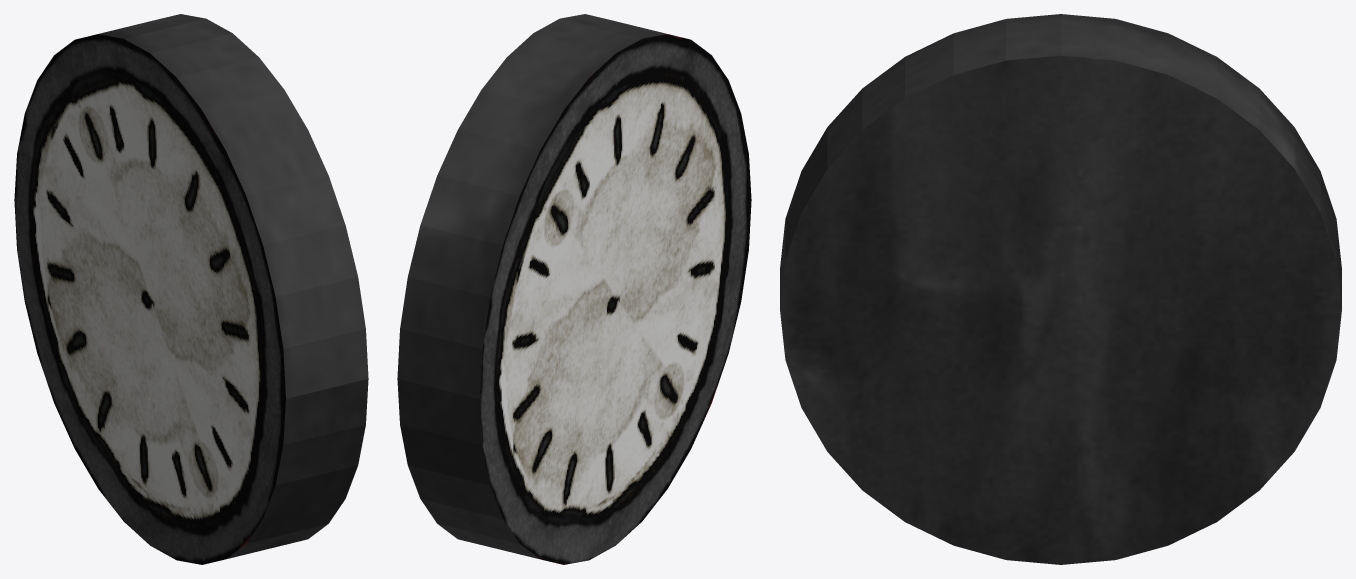
The model's file is wheel.glb.
3 views of the same model, side by side, from view 1: azimuth 30°, elevation 25°; view 2: azimuth 150°, elevation 25°; view 3: azimuth 270°, elevation 25° (orthographic). The views are drawn at different scales.
Visible parts, largest first — view 1: Wheel FR; view 2: Wheel FR; view 3: Wheel FR.
Boxes of the visible parts, <box> form: Wheel FR: <box>14,14,368,564</box>; Wheel FR: <box>397,14,751,564</box>; Wheel FR: <box>780,14,1341,564</box>.
Bounding box in the file's own units: 0.1002 × 0.571 × 0.571.
Materials: 1 (1 with a texture image).
